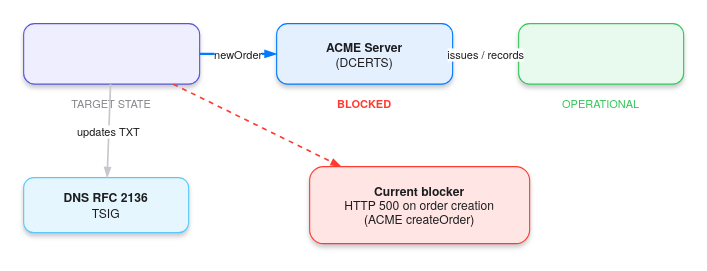
This 707x271 diagram has some shape labels left out. Each missing label, with the centre of its shape:
cert-manager (Kubernetes): point (111, 55)
Enterprise CA: point (600, 55)
